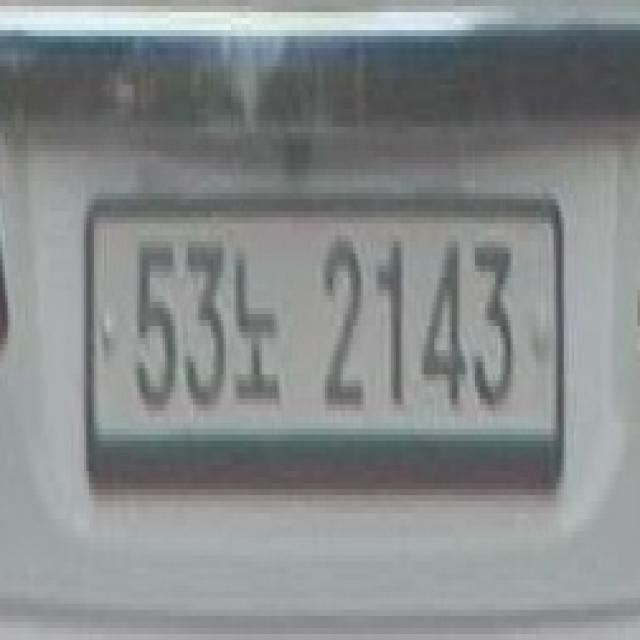1: (373, 235, 419, 410)
2: (322, 236, 373, 428)
3: (180, 218, 231, 416), (470, 230, 518, 410)
4: (419, 248, 475, 410)
5: (124, 242, 180, 416)
license_plate: (91, 193, 569, 495)
no: (231, 248, 300, 422)
